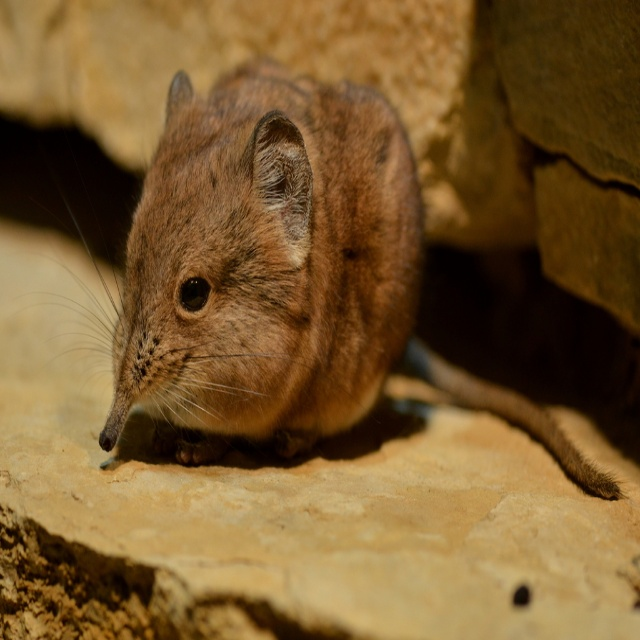Hamster: (12, 55, 632, 500)
